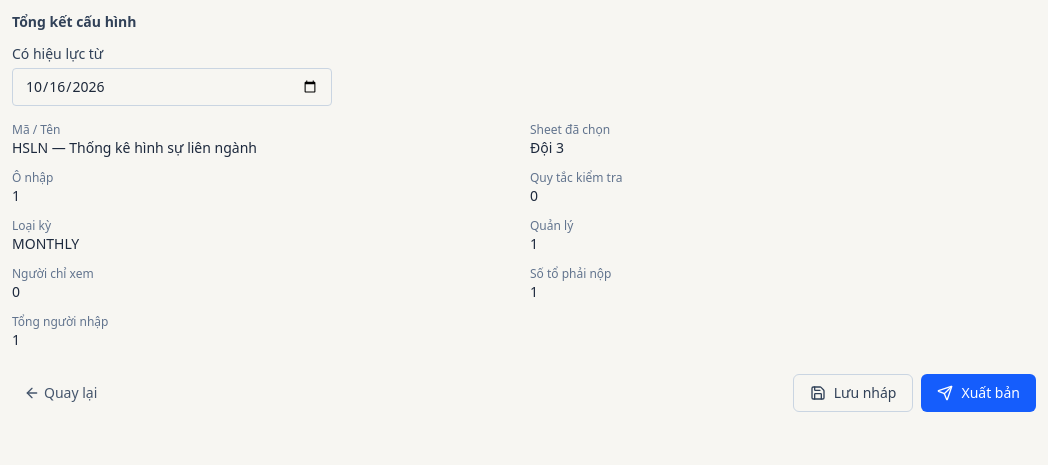
it: ReportSummaryStep › shows a readable error and stays on the form when the save fails
Click the button with test id "btn-publish".
click(979, 393)  # box [922,374,1036,412]
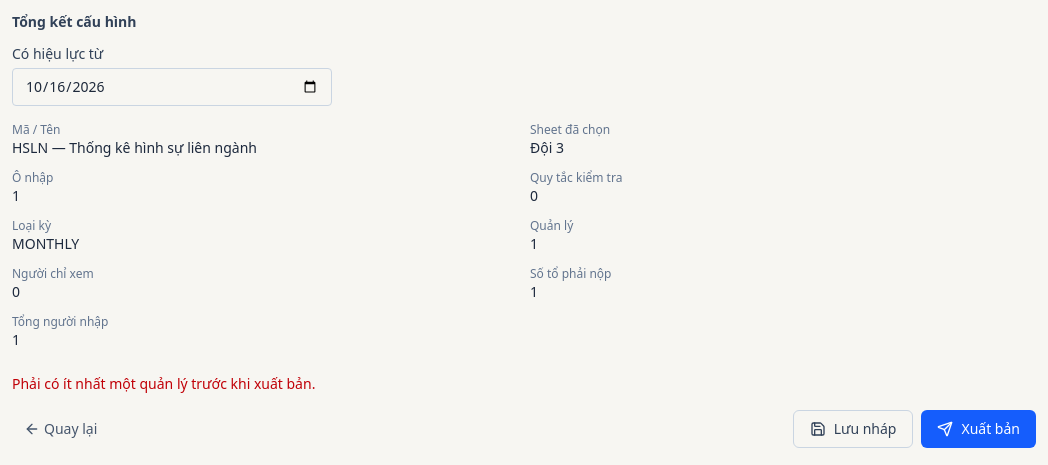
Result: the text with test id "save-error" shows "quản lý" at [12,374,315,393]
